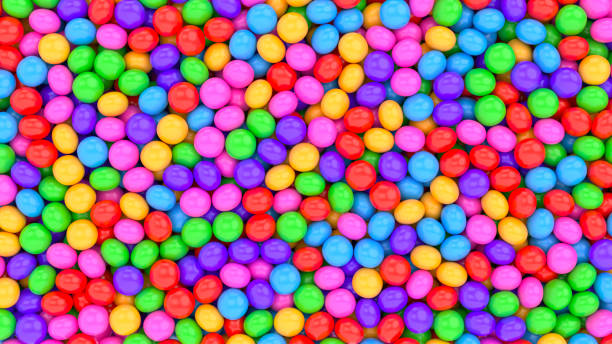Balloon: (112, 263, 145, 296), (144, 310, 176, 343), (14, 313, 48, 344), (166, 80, 197, 113), (52, 154, 85, 185), (527, 87, 559, 118), (107, 139, 140, 169), (556, 4, 586, 37), (164, 286, 194, 319), (323, 234, 353, 267), (270, 264, 301, 295), (408, 151, 439, 182), (72, 72, 103, 103), (218, 288, 248, 320), (200, 77, 230, 108), (277, 12, 307, 43), (325, 288, 356, 318), (547, 243, 577, 274), (459, 168, 490, 198), (475, 95, 506, 125), (212, 212, 243, 242), (276, 211, 306, 242), (20, 223, 50, 254), (78, 136, 108, 167), (225, 129, 257, 158), (180, 218, 212, 247), (234, 160, 266, 189), (179, 188, 211, 217), (25, 139, 57, 168), (153, 6, 182, 38), (307, 116, 335, 149), (195, 126, 225, 156), (484, 43, 514, 73), (245, 279, 274, 310), (405, 303, 434, 334), (550, 68, 581, 97), (94, 49, 125, 78), (74, 72, 103, 103), (222, 60, 254, 88), (66, 220, 98, 248), (356, 268, 384, 300), (140, 142, 173, 169), (378, 98, 404, 132), (145, 210, 171, 244), (246, 108, 276, 137), (110, 305, 140, 334), (150, 260, 179, 290), (294, 284, 324, 313), (275, 307, 305, 336), (380, 256, 409, 286), (467, 215, 497, 244), (579, 55, 609, 84), (212, 183, 242, 212), (53, 156, 83, 185), (17, 55, 46, 85), (525, 165, 556, 193), (379, 1, 410, 29), (376, 313, 404, 344), (514, 138, 545, 166), (289, 143, 320, 171), (157, 115, 188, 143), (65, 184, 96, 212), (115, 1, 146, 29), (572, 135, 604, 162), (515, 246, 547, 273), (275, 116, 307, 143), (227, 238, 260, 264), (435, 260, 468, 286), (464, 310, 497, 336), (518, 276, 544, 309), (5, 254, 38, 280), (9, 88, 42, 114), (532, 43, 561, 72), (193, 275, 222, 304), (305, 312, 334, 341), (434, 310, 463, 339), (393, 38, 422, 67), (346, 161, 375, 190), (38, 33, 67, 62), (404, 93, 434, 121), (556, 156, 586, 184), (311, 23, 339, 53), (246, 5, 276, 33), (459, 282, 489, 310), (569, 263, 599, 291), (355, 239, 383, 269), (553, 216, 583, 244), (562, 107, 592, 135), (434, 72, 464, 100), (364, 51, 392, 81), (379, 151, 407, 181), (126, 113, 156, 141), (489, 291, 520, 318), (440, 204, 467, 235), (465, 68, 496, 95), (245, 213, 276, 240), (90, 200, 122, 226), (406, 269, 432, 301), (490, 265, 522, 291), (393, 199, 425, 225), (489, 166, 521, 192), (576, 86, 608, 112), (515, 18, 547, 44), (242, 187, 274, 213), (588, 239, 612, 273), (194, 160, 222, 189), (512, 62, 541, 90), (79, 305, 107, 334), (199, 241, 227, 270), (367, 212, 396, 240), (440, 149, 469, 177), (41, 203, 70, 231), (16, 189, 44, 218), (322, 88, 349, 118), (458, 28, 488, 55), (456, 119, 486, 146), (334, 317, 364, 344), (465, 252, 492, 282), (497, 217, 527, 244), (390, 225, 417, 255), (430, 178, 460, 205), (526, 306, 556, 333), (544, 279, 571, 309), (391, 68, 421, 95), (146, 185, 176, 212), (52, 125, 79, 155), (219, 263, 250, 289), (377, 286, 408, 312), (369, 184, 400, 210), (162, 165, 194, 190), (423, 26, 455, 51), (534, 119, 566, 144), (495, 316, 527, 341), (473, 8, 505, 33), (97, 92, 129, 117), (94, 24, 127, 48), (257, 34, 285, 62), (481, 192, 509, 220), (44, 96, 72, 124), (419, 51, 446, 80), (526, 209, 553, 238), (585, 309, 612, 338), (433, 1, 462, 28), (319, 152, 346, 181), (177, 25, 204, 54), (91, 200, 120, 227), (119, 193, 146, 222), (99, 238, 129, 264), (243, 309, 273, 335), (440, 235, 470, 261), (314, 266, 345, 291), (558, 36, 589, 61), (355, 82, 386, 107), (261, 239, 292, 264), (265, 164, 296, 189), (182, 1, 213, 26), (19, 115, 50, 140), (71, 104, 96, 135), (113, 219, 145, 243), (89, 167, 121, 191), (28, 264, 55, 292), (336, 132, 364, 159), (138, 86, 166, 113), (194, 305, 223, 331), (486, 126, 515, 152), (433, 100, 462, 126), (11, 162, 40, 188), (65, 19, 94, 45), (48, 314, 78, 339), (344, 106, 374, 131), (395, 126, 425, 151), (328, 182, 353, 212), (337, 213, 367, 238), (27, 9, 61, 31), (484, 240, 515, 264), (425, 126, 456, 150), (294, 172, 325, 196), (128, 27, 159, 51), (48, 65, 72, 96), (426, 286, 458, 309), (314, 55, 341, 82), (268, 64, 294, 92), (285, 44, 313, 70), (86, 277, 114, 303), (569, 291, 597, 317), (150, 44, 178, 70), (358, 239, 383, 268), (507, 103, 532, 132), (300, 196, 329, 221), (257, 139, 286, 164), (245, 78, 269, 108), (410, 245, 440, 269), (469, 145, 499, 169), (133, 287, 164, 310), (175, 318, 202, 344), (305, 221, 332, 247), (355, 298, 380, 326), (417, 217, 442, 245), (96, 117, 125, 141), (46, 242, 76, 265), (363, 128, 393, 151), (305, 1, 336, 23), (338, 63, 364, 89), (1, 206, 27, 232), (130, 240, 157, 265), (67, 46, 94, 71), (295, 75, 319, 103), (204, 17, 232, 41), (230, 30, 254, 58), (41, 292, 73, 313), (38, 177, 66, 201), (123, 167, 153, 189), (204, 43, 228, 70), (272, 189, 300, 212), (215, 107, 244, 129), (292, 248, 322, 269), (447, 51, 473, 75), (269, 91, 296, 114), (118, 71, 146, 93), (335, 10, 364, 31), (591, 109, 612, 138), (1, 1, 33, 20), (48, 72, 73, 96), (87, 1, 113, 24), (1, 17, 23, 44), (527, 1, 558, 20), (1, 44, 21, 73), (180, 57, 205, 80), (554, 313, 580, 335), (1, 307, 17, 341), (1, 112, 18, 144), (594, 272, 612, 302), (57, 1, 87, 19), (1, 280, 20, 308), (173, 143, 197, 165), (213, 1, 242, 19), (502, 1, 526, 22), (591, 18, 612, 42), (1, 232, 20, 258), (1, 174, 16, 206), (397, 183, 425, 200), (582, 1, 612, 16), (1, 70, 16, 99), (1, 145, 15, 176), (410, 1, 434, 18), (201, 332, 223, 344)
